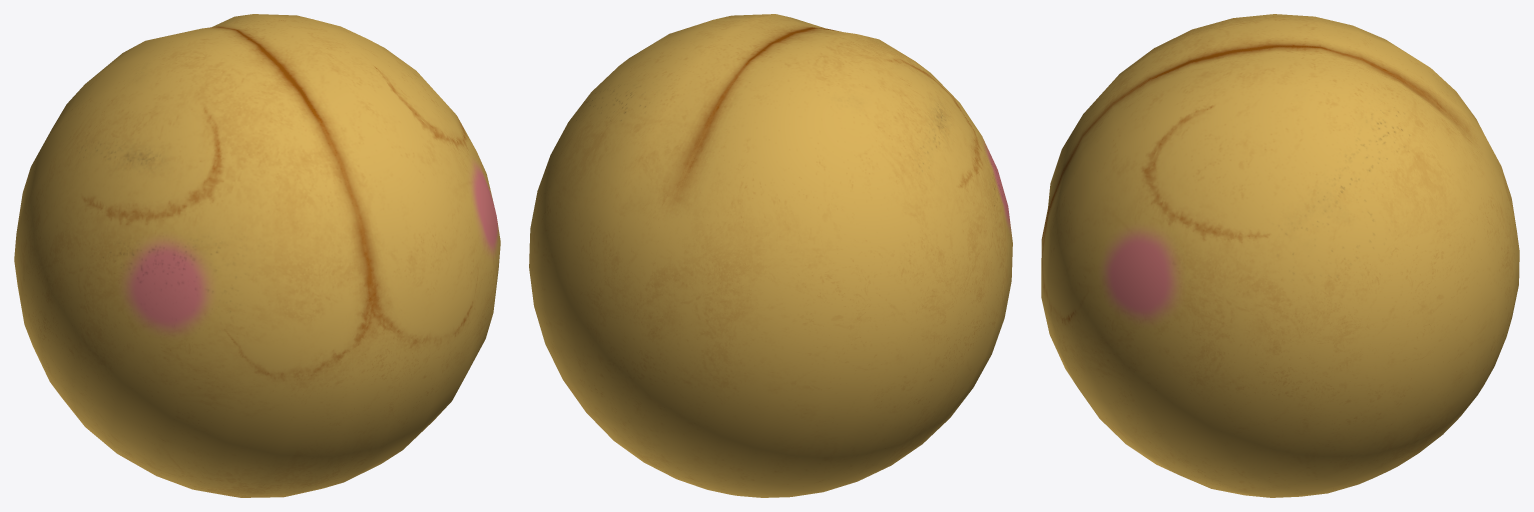
Rendered from Assteroids03.glb.
The picture shows the model from 3 angles, left to right: view 1: azimuth 30°, elevation 25°; view 2: azimuth 150°, elevation 25°; view 3: azimuth 270°, elevation 25°; orthographic projection.
Visible parts, largest first — view 1: Ass03; view 2: Ass03; view 3: Ass03.
Part boxes in pixels (x1=…): Ass03: x1=14, y1=14, x2=500, y2=497; Ass03: x1=529, y1=14, x2=1012, y2=497; Ass03: x1=1041, y1=14, x2=1519, y2=497.
Bounding box in the file's own units: 1.99 × 1.97 × 1.97.
Materials: 1 (1 with a texture image).
